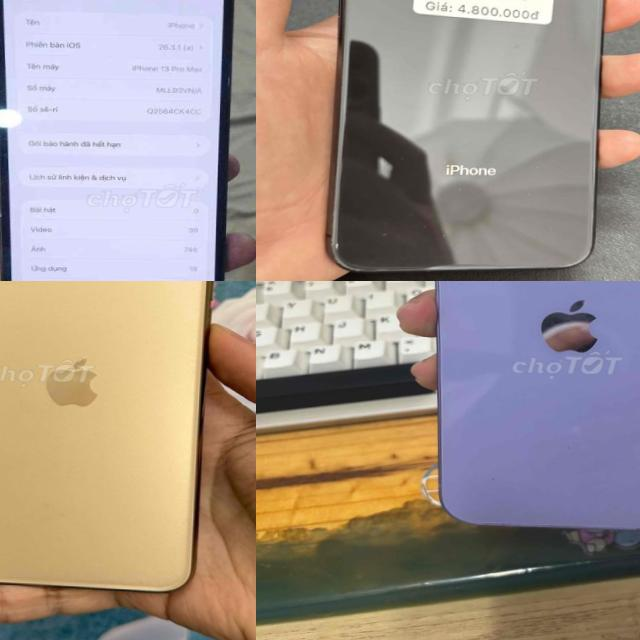scratch: (362, 198, 474, 258), (520, 147, 554, 204), (440, 184, 485, 207), (328, 238, 346, 253)
